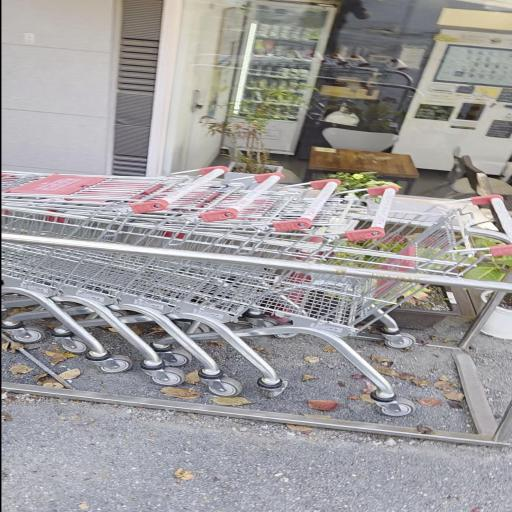combined_cart: (2, 163, 512, 449)
